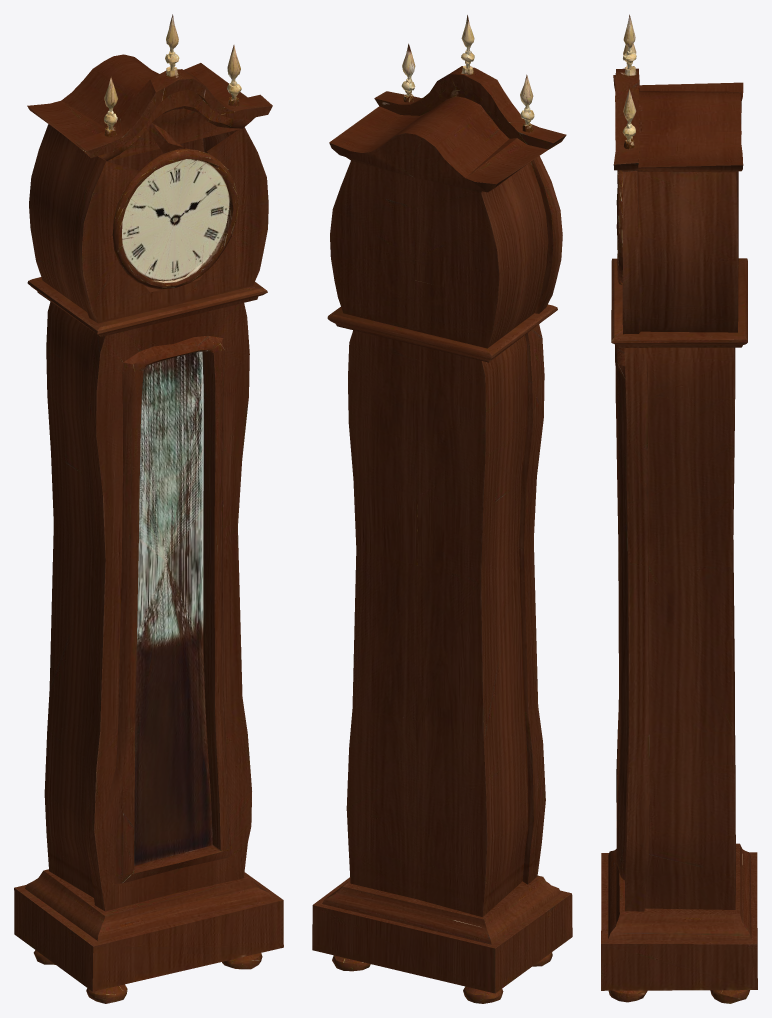
The model's file is lmLongClock.glb.
3 renders of one model, left to right at view 1: azimuth 30°, elevation 25°; view 2: azimuth 150°, elevation 25°; view 3: azimuth 270°, elevation 25°, orthographic. The views are drawn at different scales.
Visible parts, largest first — view 1: Mesh_0; view 2: Mesh_0; view 3: Mesh_0.
Part boxes in pixels (box(x1,y1,x2,y2)): Mesh_0: box(14, 14, 283, 1003); Mesh_0: box(312, 15, 572, 1003); Mesh_0: box(601, 14, 757, 1003).
Size of the model in its own units: 15.98 by 77.1 by 11.54.
1 material, 1 textured.
